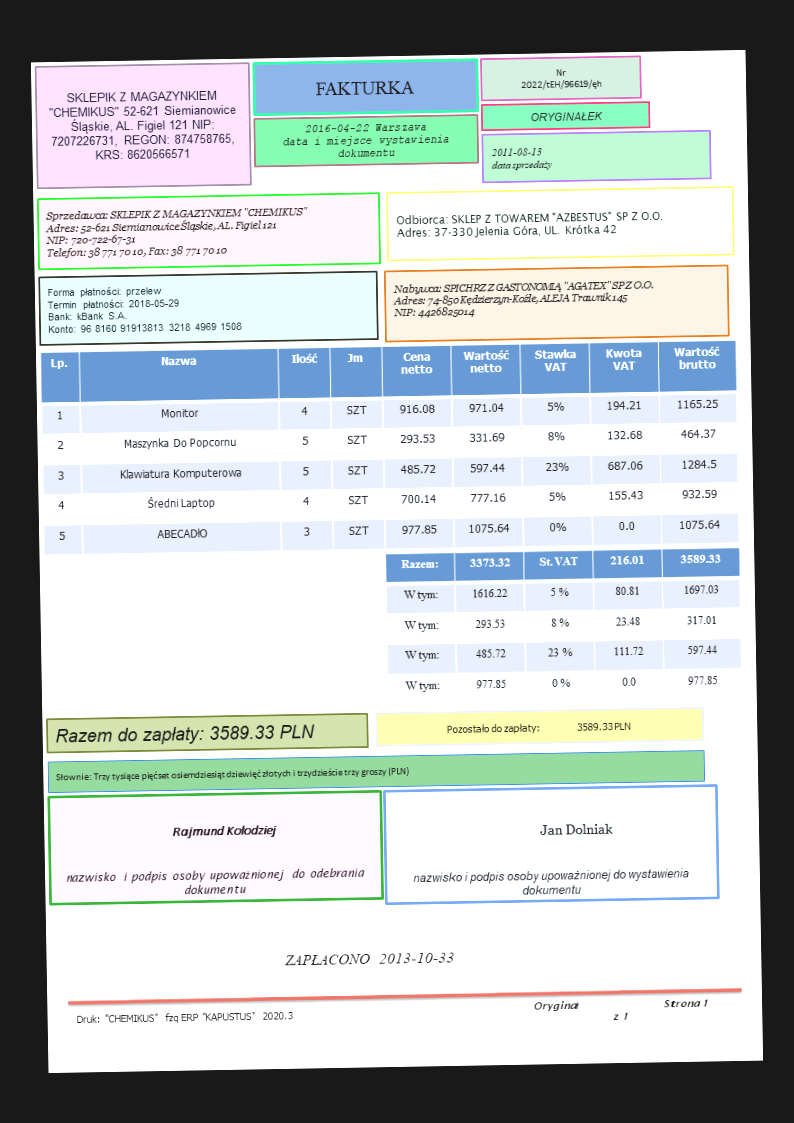Table: (39, 339, 741, 556), (384, 545, 743, 706)
TextBox: (42, 203, 312, 261), (47, 87, 240, 164), (391, 277, 656, 321), (44, 282, 243, 336), (64, 866, 366, 899), (411, 865, 690, 899), (394, 208, 665, 241), (280, 120, 452, 162), (52, 764, 411, 784), (52, 719, 317, 746), (532, 997, 711, 1023), (75, 1008, 294, 1026), (284, 949, 454, 969), (445, 719, 631, 736), (311, 77, 416, 99), (519, 66, 604, 93), (169, 822, 278, 840), (489, 144, 553, 172), (537, 820, 616, 839), (528, 107, 604, 124)
